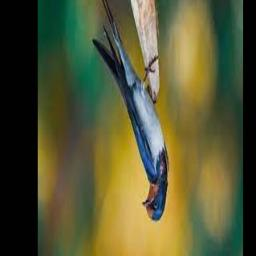Swallow: (92, 0, 168, 222)
